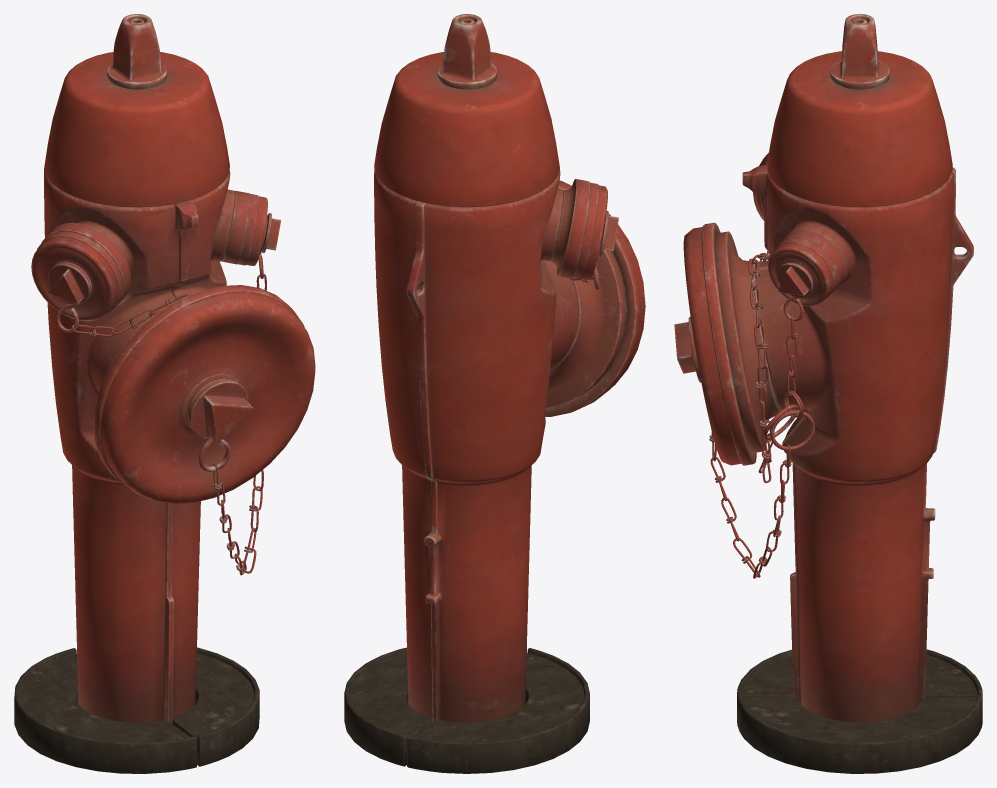
The model's file is hydrant-a.glb.
3 views of the same model, side by side, from view 1: azimuth 30°, elevation 25°; view 2: azimuth 150°, elevation 25°; view 3: azimuth 270°, elevation 25° (orthographic).
Parts seen in each view (by area): view 1: fire_hydrant; view 2: fire_hydrant; view 3: fire_hydrant.
Part boxes in pixels (<box>): fire_hydrant: <box>14,14,315,773</box>; fire_hydrant: <box>344,14,645,773</box>; fire_hydrant: <box>674,14,982,773</box>.
Size of the model in its own units: 0.2747 by 0.7995 by 0.3178.
1 material, 1 textured.
